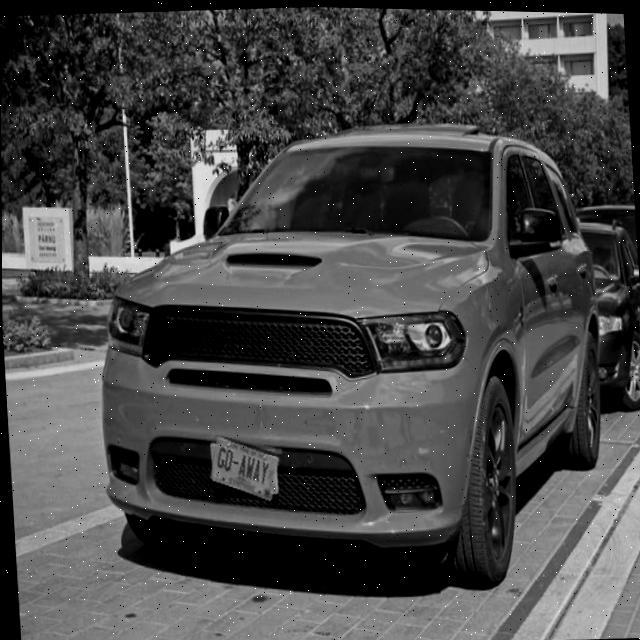LicensePlate: (209, 434, 280, 501)
